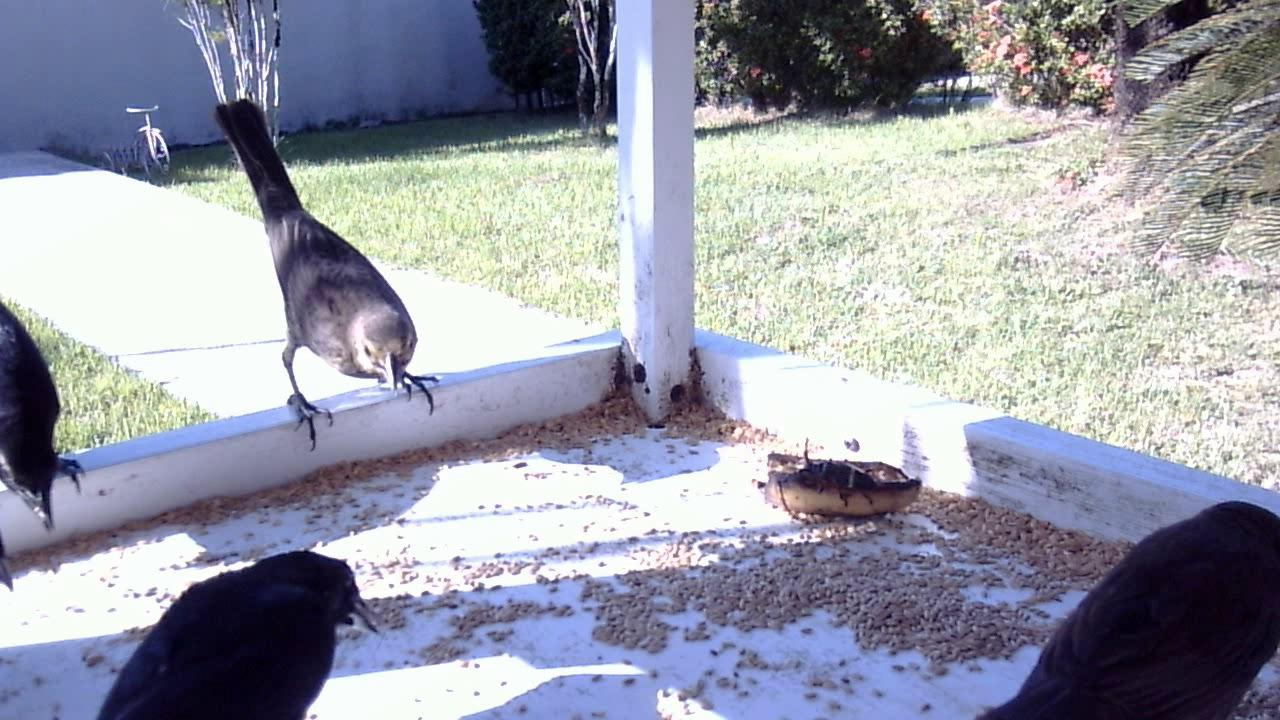chupim: (204, 86, 441, 463), (950, 483, 1280, 712), (83, 537, 386, 716), (1, 282, 102, 581)
